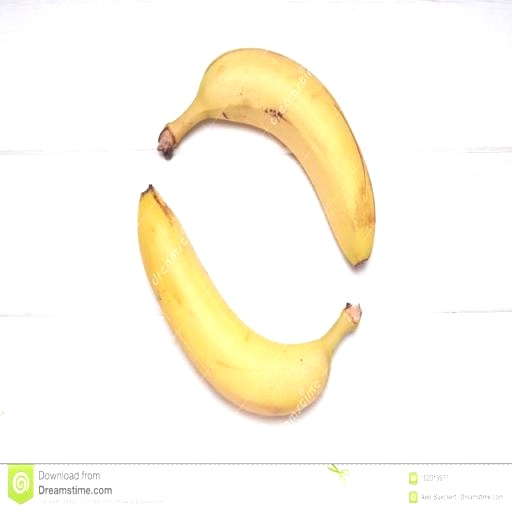fruit: (138, 186, 360, 415), (159, 48, 375, 265)
